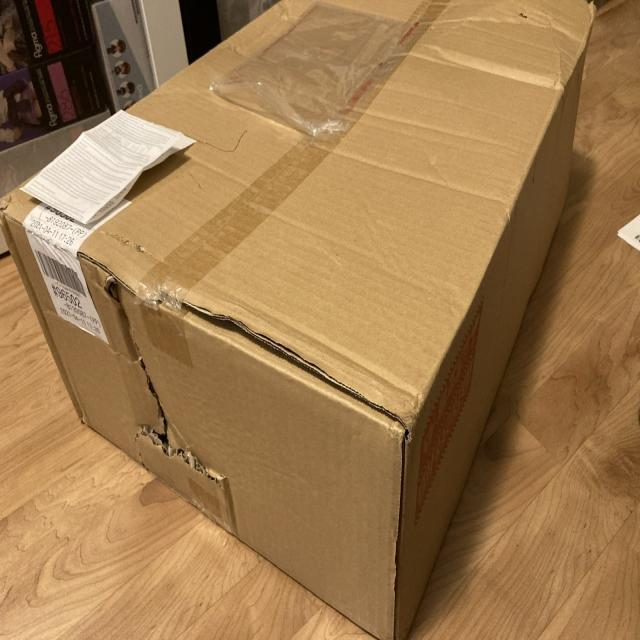hole: (102, 274, 172, 459)
